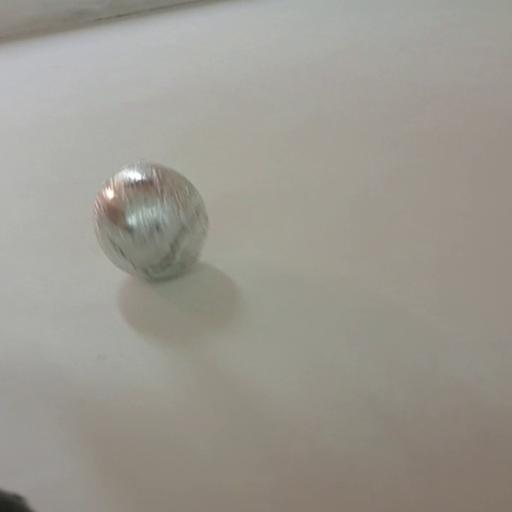alive: (88, 158, 213, 283)
